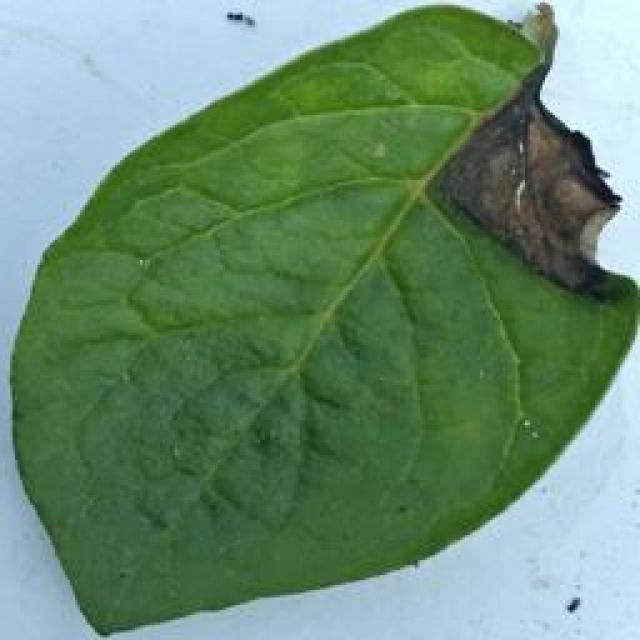Potato_Late_Blight: (7, 12, 623, 630)
